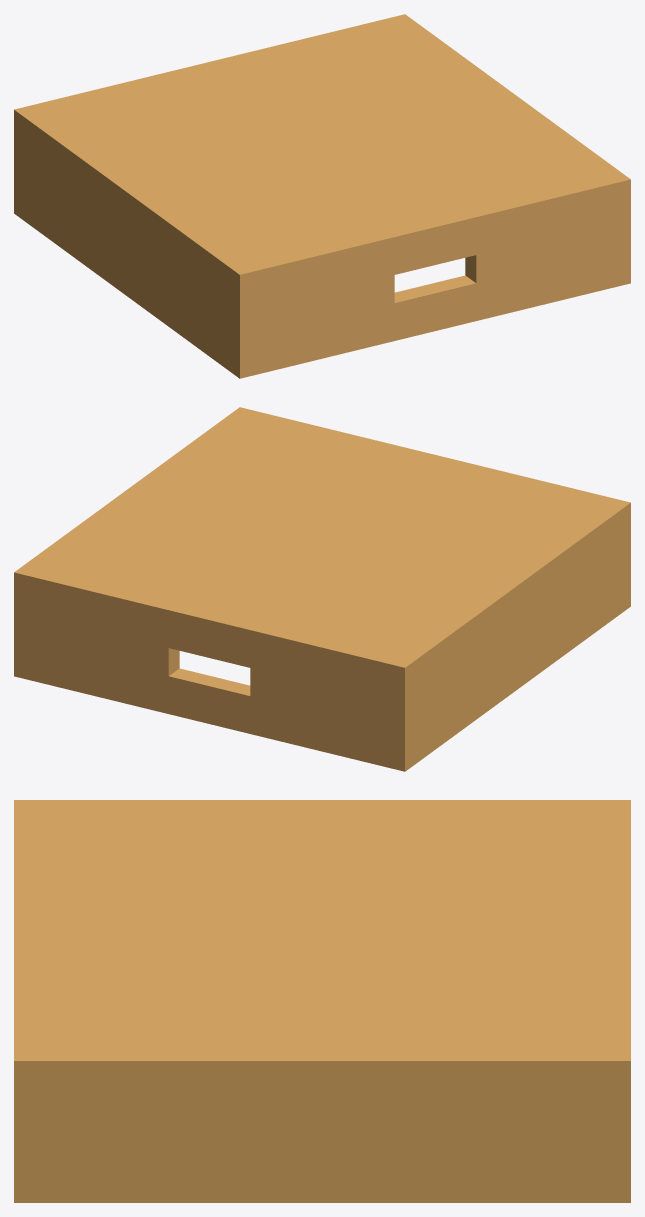
The model's file is TapacajaCarton.fbx.
3 views of the same model, one above another, from view 1: azimuth 30°, elevation 25°; view 2: azimuth 150°, elevation 25°; view 3: azimuth 270°, elevation 25° (orthographic). The views are drawn at different scales.
Parts seen in each view (by area): view 1: Cube.002; view 2: Cube.002; view 3: Cube.002.
Boxes of the visible parts, bbox=[...] form: Cube.002: bbox=[14, 14, 630, 378]; Cube.002: bbox=[14, 407, 630, 771]; Cube.002: bbox=[14, 800, 630, 1202].
Bounding box in the file's own units: 155 × 39.28 × 155.
